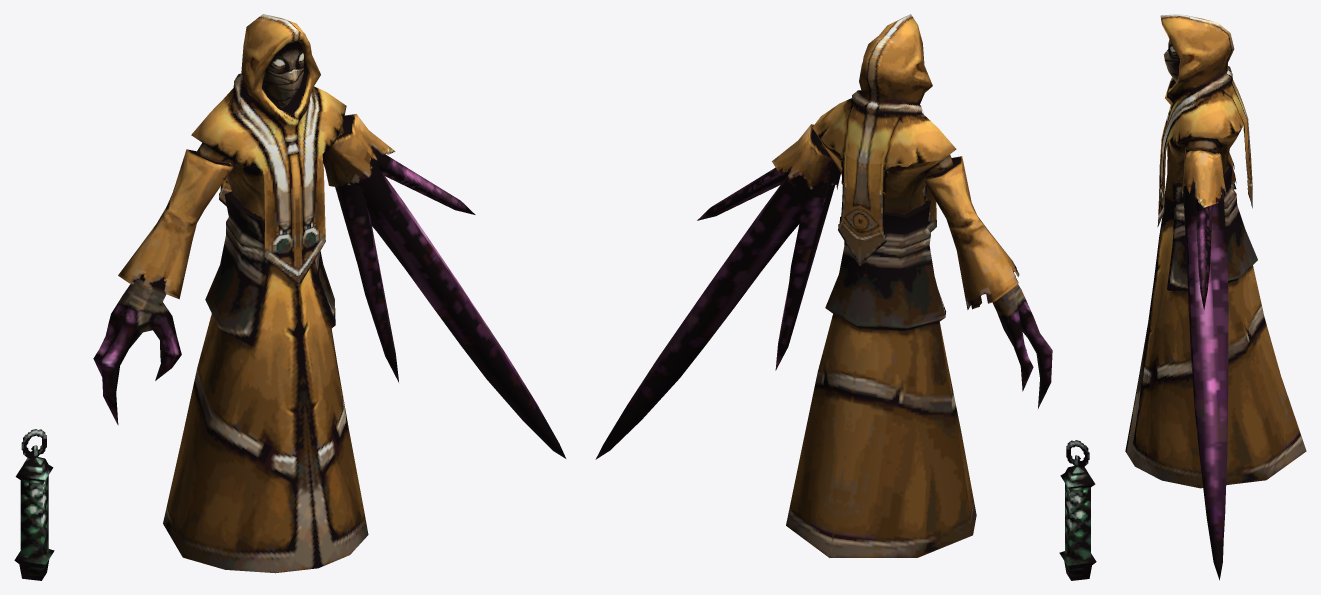
File: cultist_caster_b8bee1ac.glb
The picture shows the model from 3 angles, left to right: view 1: azimuth 30°, elevation 25°; view 2: azimuth 150°, elevation 25°; view 3: azimuth 270°, elevation 25°; orthographic projection. The views are drawn at different scales.
Bounding box in the file's own units: 3 × 2.79 × 1.03.
Materials: 1 (1 with a texture image).
